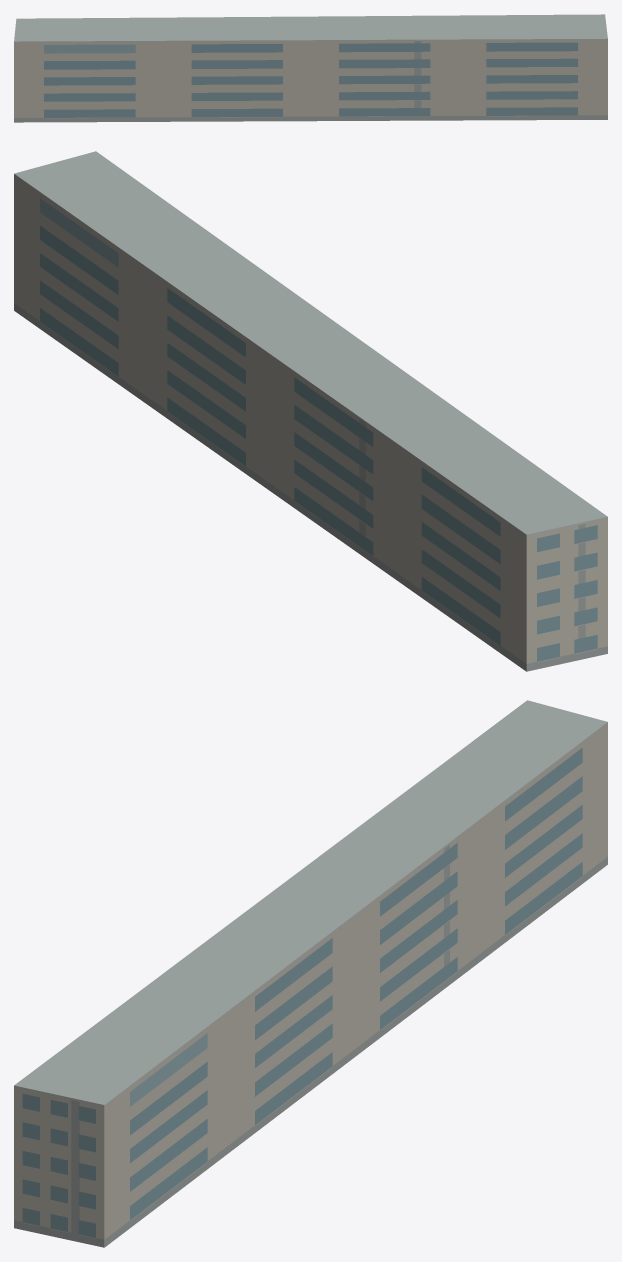
Rendered from residential-8342cd98-b062-46c1-af40-4fc645e18f4f.glb.
3 views of the same model, one above another, from view 1: azimuth 30°, elevation 25°; view 2: azimuth 150°, elevation 25°; view 3: azimuth 270°, elevation 25° (orthographic). The views are drawn at different scales.
Visible parts, largest first — view 1: residential-8342cd98-b062-46c1-af40-4fc645e18f4f.tmp; view 2: residential-8342cd98-b062-46c1-af40-4fc645e18f4f.tmp; view 3: residential-8342cd98-b062-46c1-af40-4fc645e18f4f.tmp.
Boxes of the visible parts, bbox=[...] form: residential-8342cd98-b062-46c1-af40-4fc645e18f4f.tmp: bbox=[14, 14, 607, 122]; residential-8342cd98-b062-46c1-af40-4fc645e18f4f.tmp: bbox=[14, 151, 607, 671]; residential-8342cd98-b062-46c1-af40-4fc645e18f4f.tmp: bbox=[14, 700, 607, 1247].
Size of the model in its own units: 92.81 by 15.25 by 57.54.
